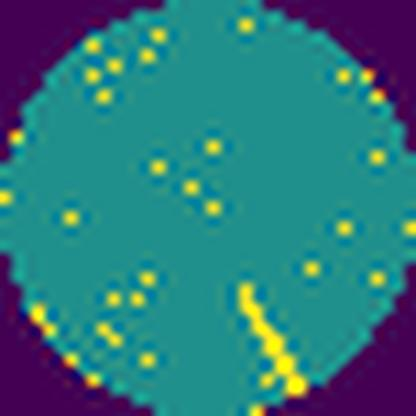Scratch: (233, 274, 309, 398)
